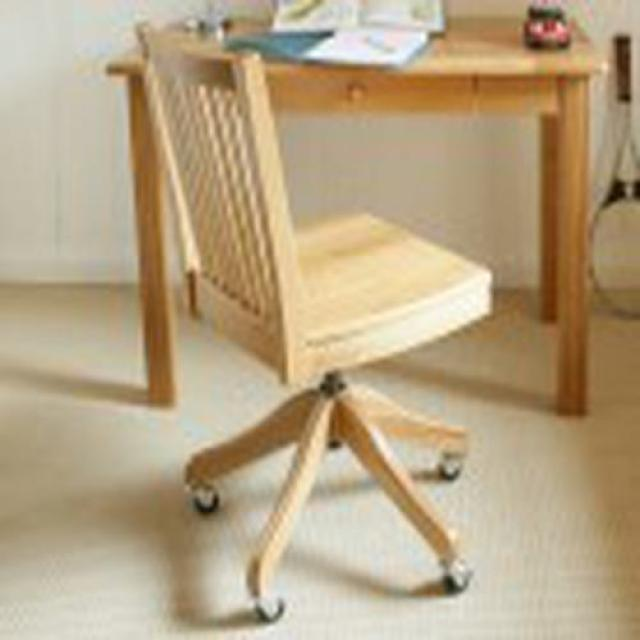swivelchair: (105, 29, 495, 625)
